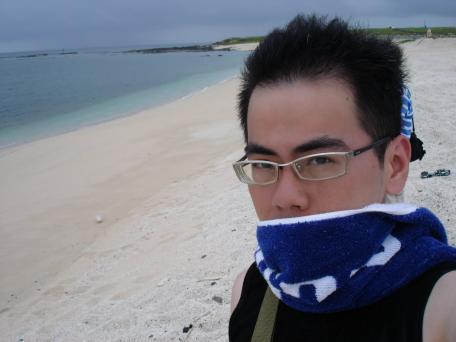WRONG: (240, 115, 391, 266)
